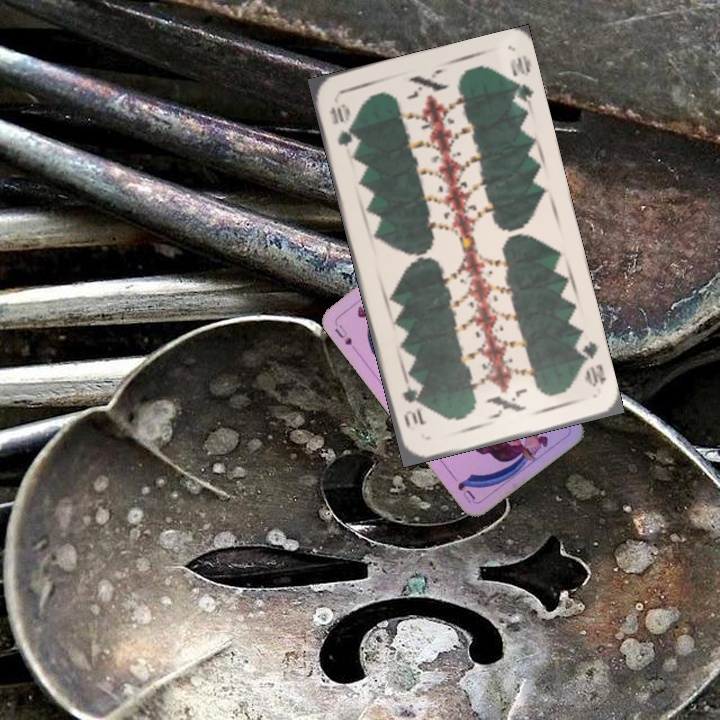G10: (571, 335, 608, 390), (326, 99, 356, 150)
SU: (330, 319, 360, 354)
